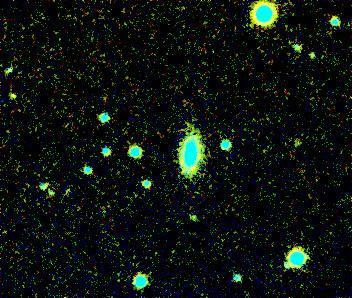star: (177, 202, 207, 232)
